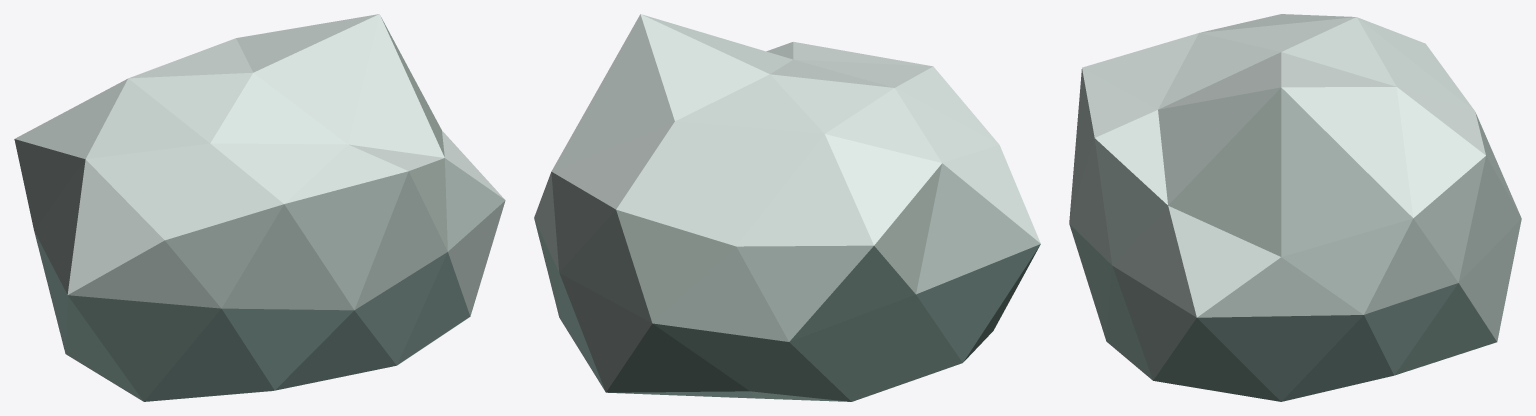
The model's file is rock-b.glb.
The picture shows the model from 3 angles, left to right: view 1: azimuth 30°, elevation 25°; view 2: azimuth 150°, elevation 25°; view 3: azimuth 270°, elevation 25°; orthographic projection. The views are drawn at different scales.
Visible parts, largest first — view 1: weathered-rock; view 2: weathered-rock; view 3: weathered-rock.
Part boxes in pixels (x1,y1,x2,y2): weathered-rock: [14, 14, 505, 401]; weathered-rock: [534, 14, 1040, 401]; weathered-rock: [1069, 14, 1521, 401].
Size of the model in its own units: 2.19 by 1.43 by 1.87.
